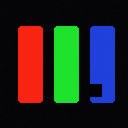1 square: (89, 84, 101, 96)
